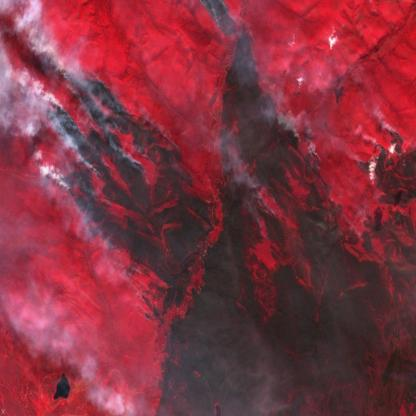fire: (40, 56, 197, 326), (235, 109, 404, 248), (198, 0, 248, 42)
